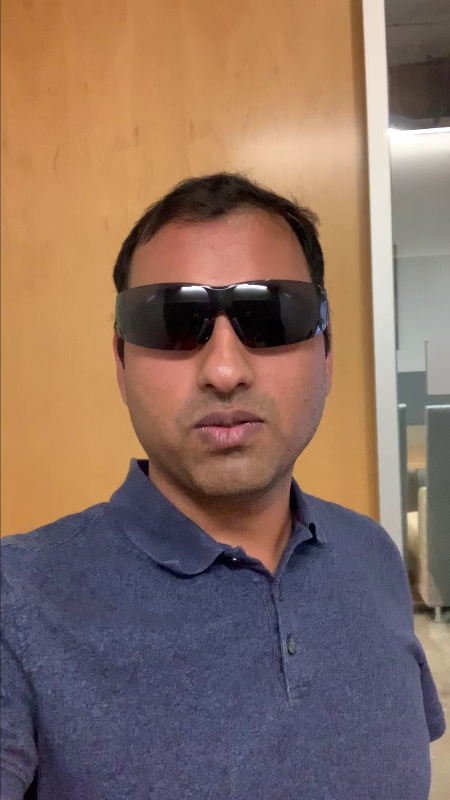glasses: (98, 275, 342, 356)
